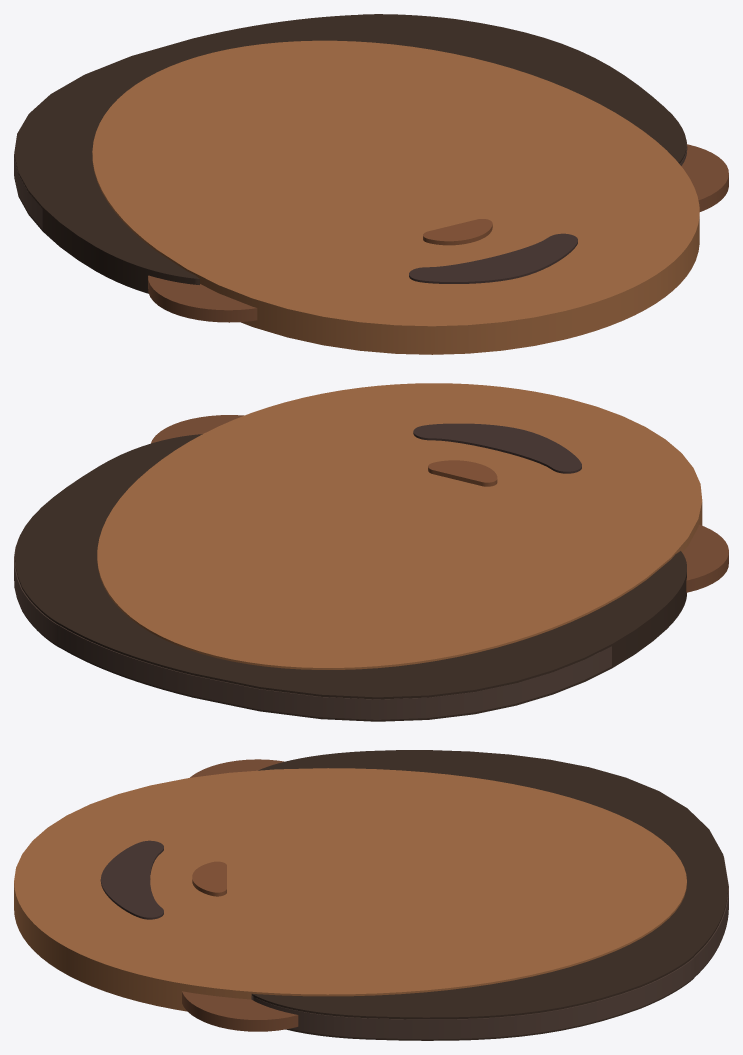
The model's file is emoji_u1f466_1f3fe.glb.
The picture shows the model from 3 angles, top to bottom: view 1: azimuth 30°, elevation 25°; view 2: azimuth 150°, elevation 25°; view 3: azimuth 270°, elevation 25°; orthographic projection. The views are drawn at different scales.
Visible parts, largest first — view 1: emoji_u1f466_1f3fe; view 2: emoji_u1f466_1f3fe; view 3: emoji_u1f466_1f3fe.
Boxes of the visible parts, x1=… form: emoji_u1f466_1f3fe: x1=14, y1=14, x2=728, y2=354; emoji_u1f466_1f3fe: x1=14, y1=383, x2=728, y2=721; emoji_u1f466_1f3fe: x1=14, y1=750, x2=728, y2=1040.
Size of the model in its own units: 0.0295 by 0.0018 by 0.0333.
